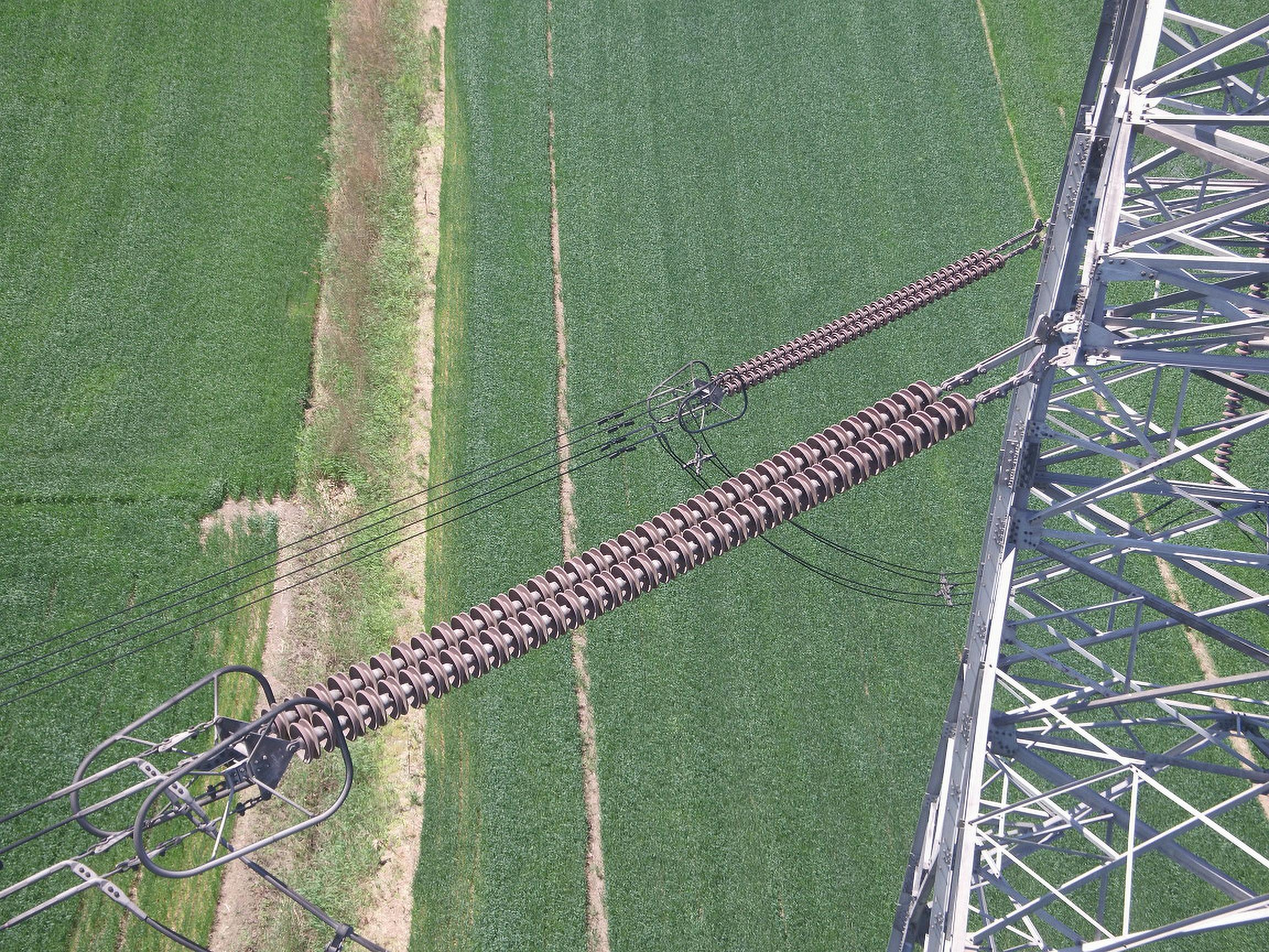insulator: (255, 377, 979, 768), (706, 247, 1007, 399), (1207, 234, 1269, 490)
